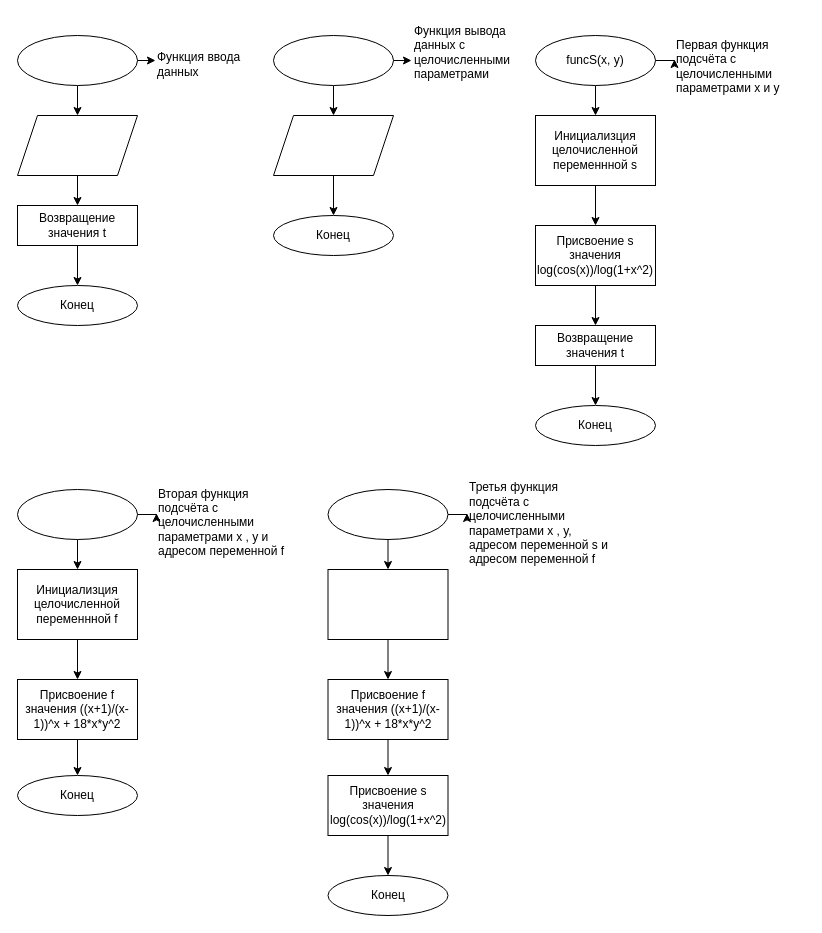
Image size: 822x933. Some labels were removed from this diagram. The centre of each missing label's shape, as x and y in pixels:
"funcF(x, y, f)" belongs at (77,514).
"funcSF(x, y, s, f)" belongs at (387,514).
"inp()" belongs at (77,60).
"outp(x, y)" belongs at (333,60).
"Ввод в переменную t" belongs at (77,145).
"Вывод переменных x и y" belongs at (333,145).
"Инициализция целочисленной переменнной s и f" belongs at (387,604).
